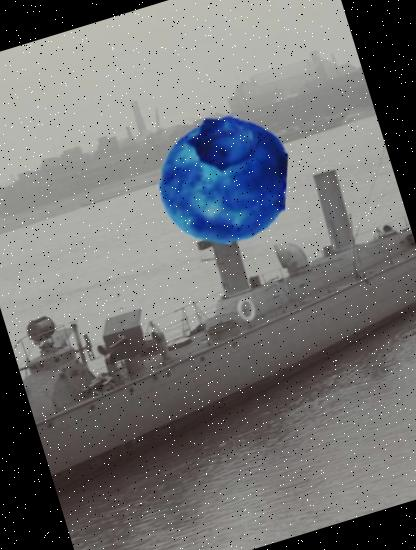Huckleberry: (143, 100, 302, 260)
